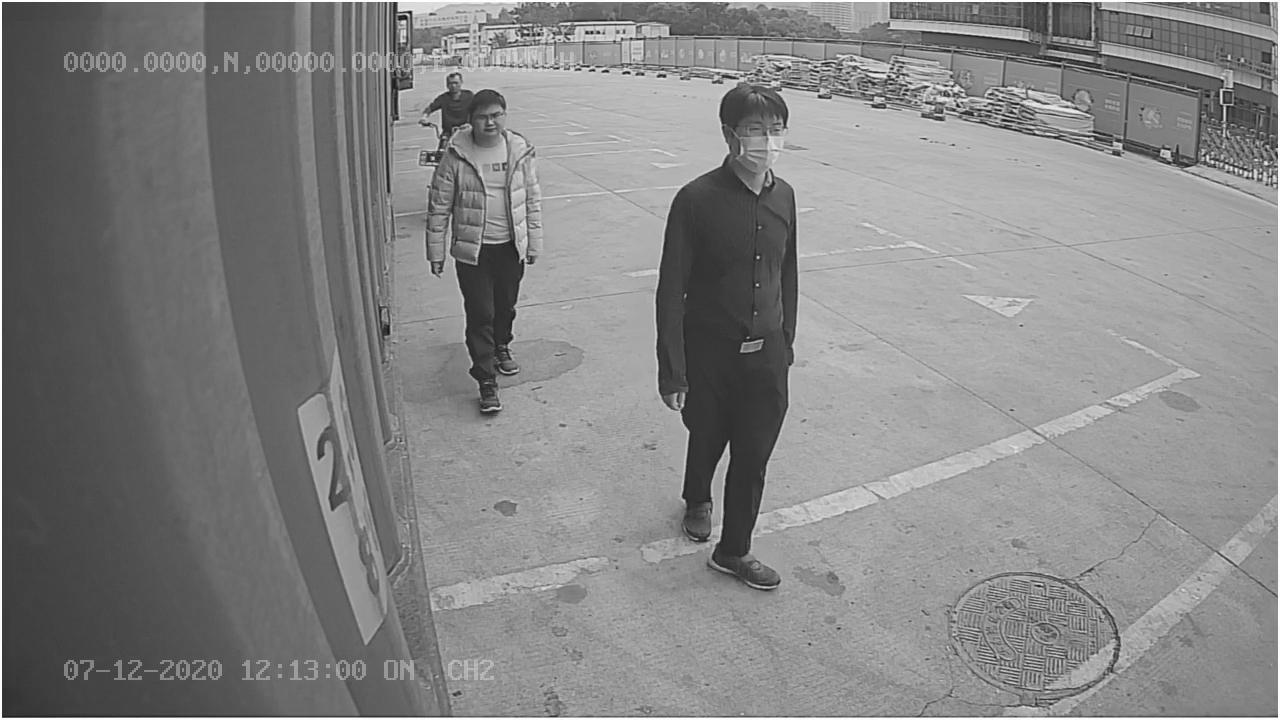person: (655, 76, 807, 596)
